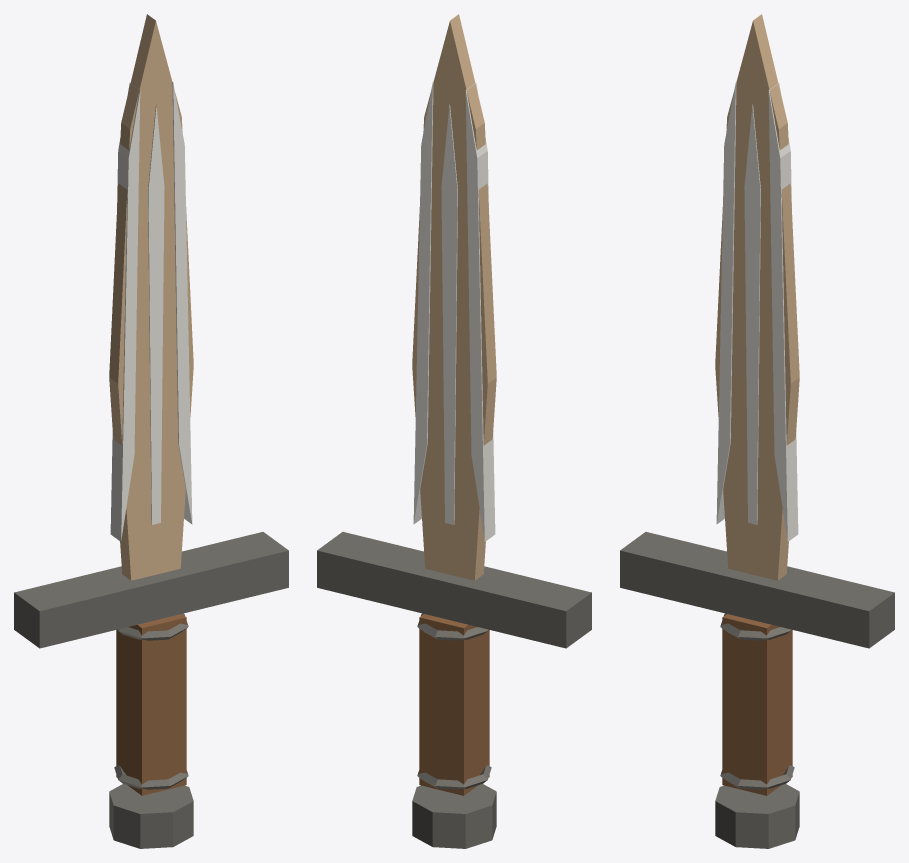
File: t2_one_handed_sword.glb
The picture shows the model from 3 angles, left to right: view 1: azimuth 30°, elevation 25°; view 2: azimuth 150°, elevation 25°; view 3: azimuth 330°, elevation 25°; orthographic projection.
Visible parts, largest first — view 1: Blade, Guard, Grip, LeftBladeEdge, Fuller, RightBladeEdge, Pommel, BottomGripRing, TopGripRing; view 2: Blade, Guard, Grip, LeftBladeEdge, Fuller, RightBladeEdge, Pommel, BottomGripRing, TopGripRing; view 3: Blade, Guard, Grip, RightBladeEdge, Fuller, LeftBladeEdge, Pommel, BottomGripRing, TopGripRing.
Part boxes in pixels (x1=…): Blade: x1=109, y1=14, x2=193, y2=580; Guard: x1=14, y1=532, x2=288, y2=648; Grip: x1=116, y1=614, x2=186, y2=795; LeftBladeEdge: x1=110, y1=83, x2=140, y2=541; Fuller: x1=148, y1=104, x2=164, y2=524; RightBladeEdge: x1=172, y1=82, x2=192, y2=524; Pommel: x1=109, y1=783, x2=193, y2=848; BottomGripRing: x1=114, y1=765, x2=188, y2=789; TopGripRing: x1=118, y1=613, x2=188, y2=640; Blade: x1=412, y1=14, x2=496, y2=580; Guard: x1=317, y1=532, x2=591, y2=648; Grip: x1=419, y1=614, x2=489, y2=795; LeftBladeEdge: x1=465, y1=83, x2=495, y2=541; Fuller: x1=441, y1=104, x2=457, y2=524; RightBladeEdge: x1=413, y1=82, x2=433, y2=524; Pommel: x1=412, y1=783, x2=496, y2=848; BottomGripRing: x1=417, y1=765, x2=491, y2=789; TopGripRing: x1=417, y1=613, x2=487, y2=640; Blade: x1=715, y1=14, x2=799, y2=580; Guard: x1=620, y1=532, x2=894, y2=648; Grip: x1=722, y1=614, x2=792, y2=795; RightBladeEdge: x1=768, y1=83, x2=798, y2=541; Fuller: x1=744, y1=104, x2=760, y2=524; LeftBladeEdge: x1=716, y1=82, x2=736, y2=524; Pommel: x1=715, y1=783, x2=799, y2=848; BottomGripRing: x1=720, y1=765, x2=794, y2=789; TopGripRing: x1=720, y1=613, x2=790, y2=640.
Size of the model in its own units: 0.56 by 1.75 by 0.17.
